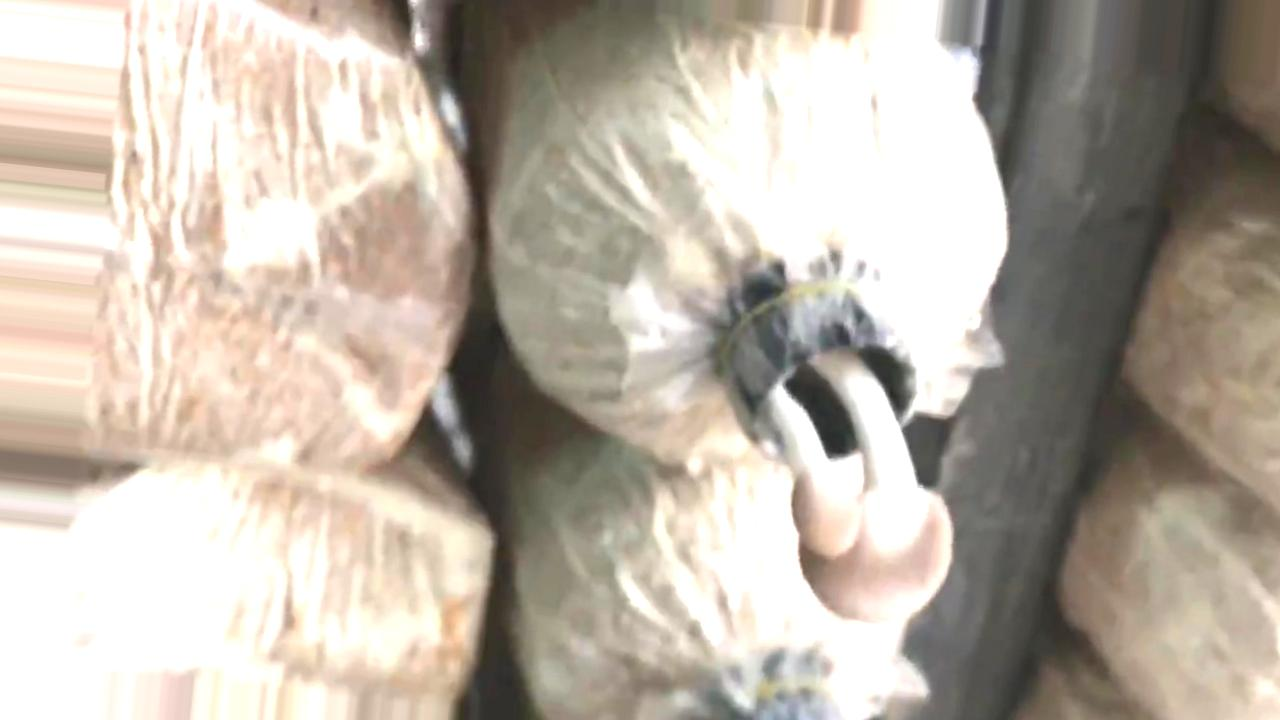nam: (723, 288, 955, 622)
